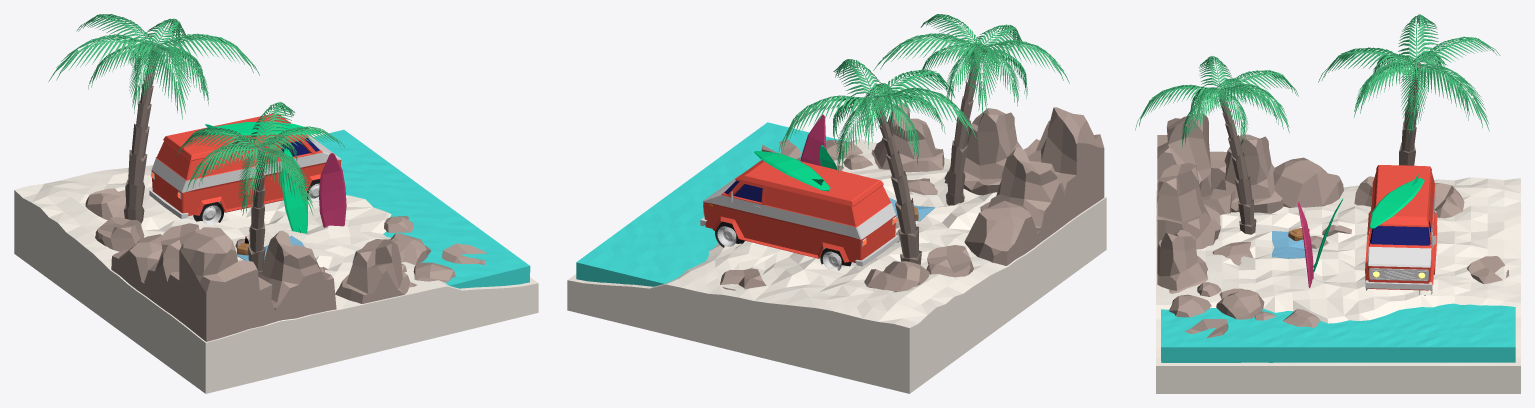
Rendered from beach-island.glb.
3 renders of one model, left to right at view 1: azimuth 30°, elevation 25°; view 2: azimuth 150°, elevation 25°; view 3: azimuth 270°, elevation 25°, orthographic. The views are drawn at different scales.
Parts seen in each view (by area): view 1: Ground_Web, Rocks_Web, Water_Web, Van_Web, Rock.001_Web, Palm_Web, Surf.001_Web, Plane.013_Web, Palm.001_Web, Plane.005_Web, Plane.012_Web, Rock.005_Web (+20 smaller); view 2: Ground_Web, Rocks_Web, Water_Web, Van_Web, Rock.001_Web, Palm_Web, Palm.001_Web, Cube.011_Web, Rock.004_Web, Rock.005_Web, Plane.003_Web, Plane.012_Web (+20 smaller); view 3: Ground_Web, Water_Web, Rocks_Web, Van_Web, Rock.001_Web, Palm.001_Web, Plane.015_Web, Rock.003_Web, Surf.002_Web, Palm_Web, Plane.012_Web, Plane.019_Web (+24 smaller).
Boxes of the visible parts, x1,y1,x2,y2 form: Ground_Web: (14,165,538,393); Rocks_Web: (111,223,336,341); Water_Web: (314,129,530,288); Van_Web: (151,113,341,216); Rock.001_Web: (335,239,416,303); Palm_Web: (124,46,158,223); Surf.001_Web: (319,153,346,227); Plane.013_Web: (143,45,190,119); Palm.001_Web: (248,146,265,276); Plane.005_Web: (256,147,313,215); Plane.012_Web: (48,34,155,81); Rock.005_Web: (95,217,144,251); Ground_Web: (567,139,1106,393); Rocks_Web: (944,107,1104,265); Water_Web: (576,122,844,286); Van_Web: (703,160,896,262); Rock.001_Web: (871,102,944,172); Palm_Web: (872,98,921,264); Palm.001_Web: (945,47,981,205); Cube.011_Web: (729,182,763,241); Rock.004_Web: (864,261,929,291); Rock.005_Web: (926,245,973,277); Plane.003_Web: (962,47,1000,115); Plane.012_Web: (880,87,977,141); Ground_Web: (1156,177,1520,393); Water_Web: (1161,303,1515,362); Rocks_Web: (1157,113,1343,249); Van_Web: (1367,165,1435,290); Rock.001_Web: (1157,230,1208,293); Palm.001_Web: (1218,91,1256,234); Plane.015_Web: (1417,63,1489,131); Rock.003_Web: (1216,288,1264,319); Surf.002_Web: (1370,178,1424,228); Palm_Web: (1399,62,1421,165); Plane.012_Web: (1398,14,1439,63); Plane.019_Web: (1400,63,1428,138).
Size of the model in its own units: 7.96 by 5.38 by 8.
